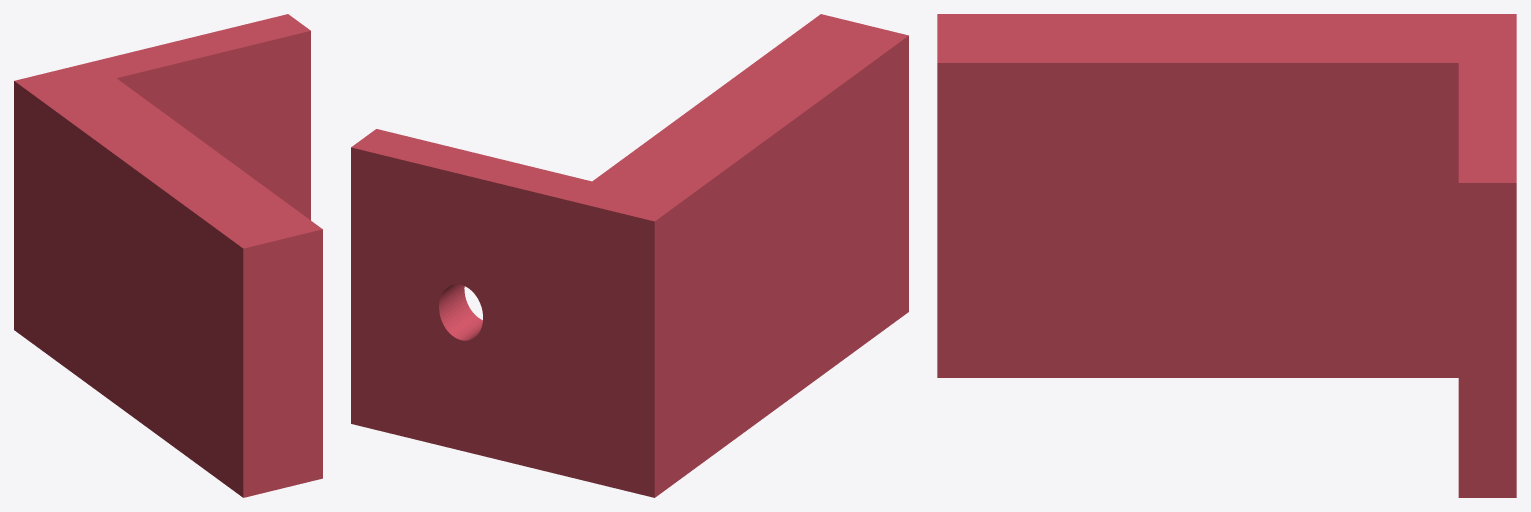
File: _camme_cabine_TOR.glb
The picture shows the model from 3 angles, left to right: view 1: azimuth 30°, elevation 25°; view 2: azimuth 150°, elevation 25°; view 3: azimuth 270°, elevation 25°; orthographic projection. The views are drawn at different scales.
Visible parts, largest first — view 1: Mesh_Mesh_head_geo.001_lambert2SG.001; view 2: Mesh_Mesh_head_geo.001_lambert2SG.001; view 3: Mesh_Mesh_head_geo.001_lambert2SG.001.
Boxes of the visible parts, x1,y1,x2,y2 form: Mesh_Mesh_head_geo.001_lambert2SG.001: (14,14,322,497); Mesh_Mesh_head_geo.001_lambert2SG.001: (351,14,908,497); Mesh_Mesh_head_geo.001_lambert2SG.001: (937,14,1516,497).
Bounding box in the file's own units: 0.0345 × 0.03 × 0.05.
